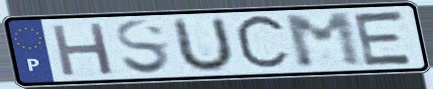C: (232, 12, 294, 75)
E: (351, 8, 418, 68)
H: (48, 20, 117, 79)
M: (281, 10, 368, 71)
S: (113, 18, 175, 77)
U: (171, 15, 237, 75)
